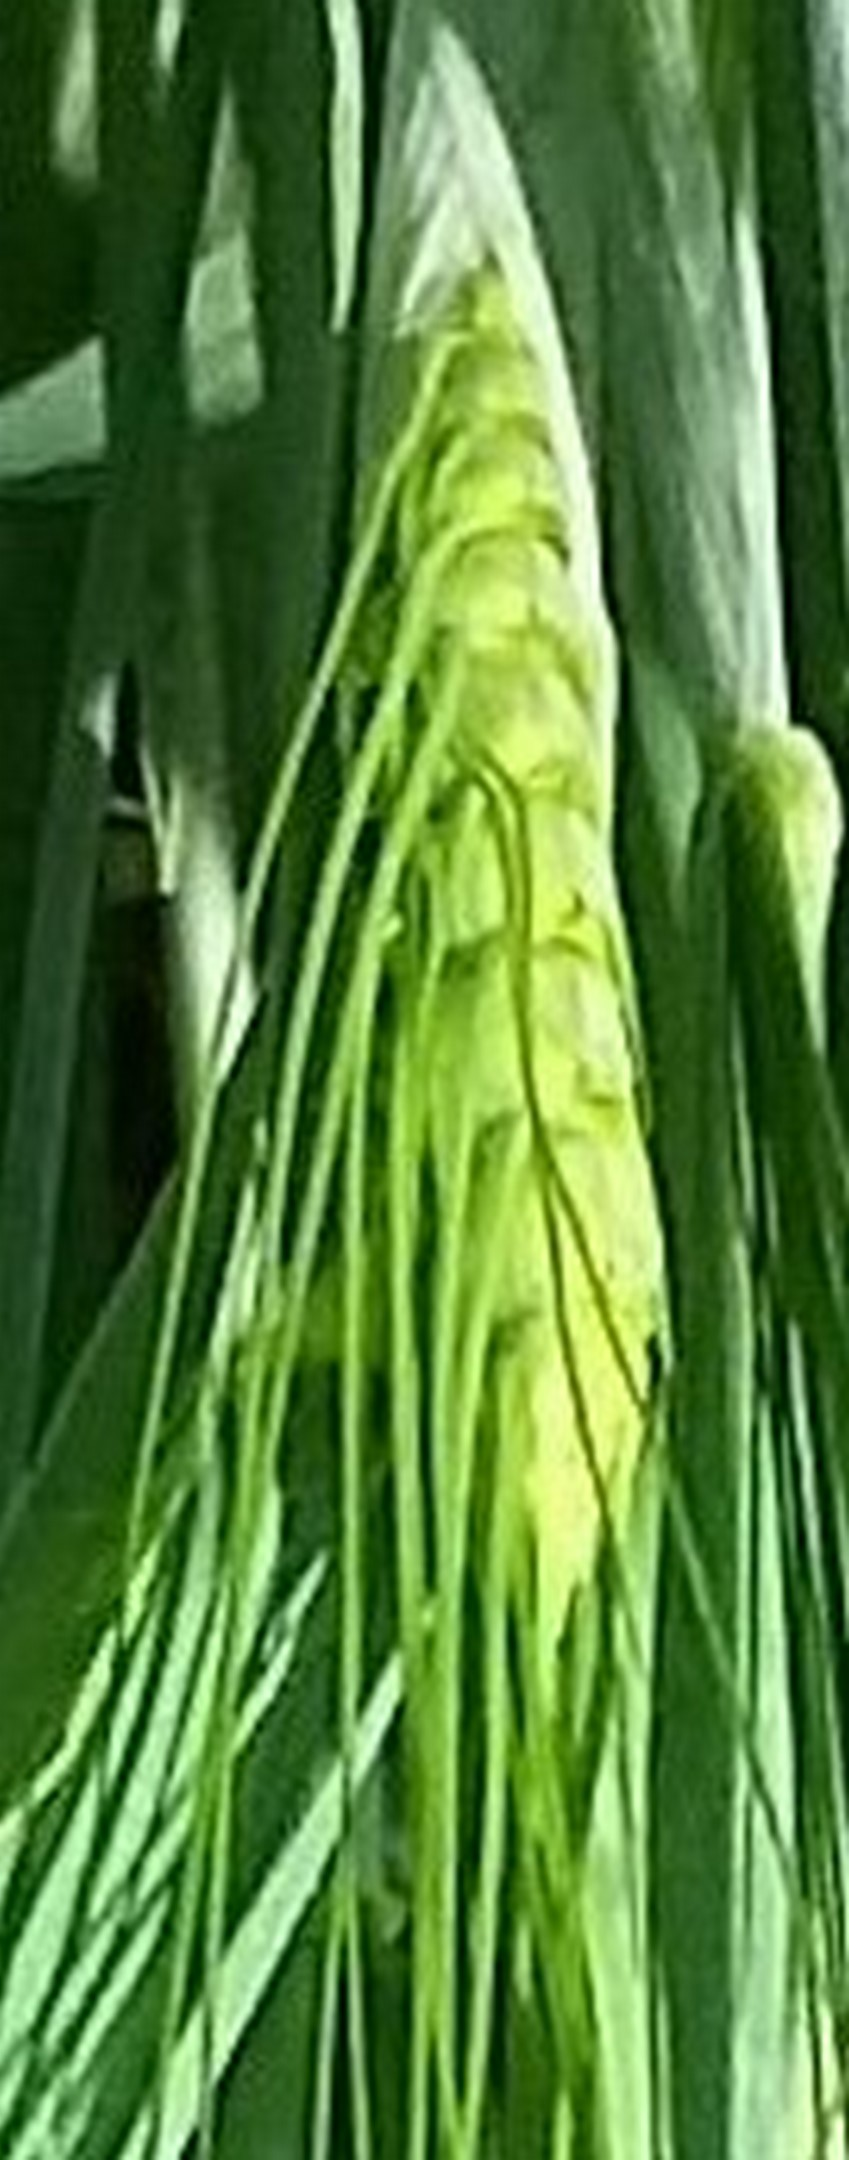Healthy Wheat: (300, 324, 717, 1637)
